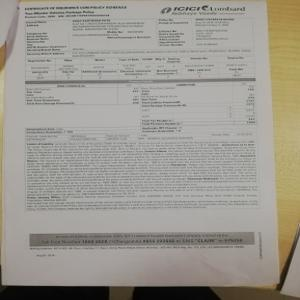image: (158, 2, 250, 16)
table: (25, 79, 257, 142), (25, 54, 256, 77)
text: (27, 143, 260, 209), (23, 4, 131, 11)
